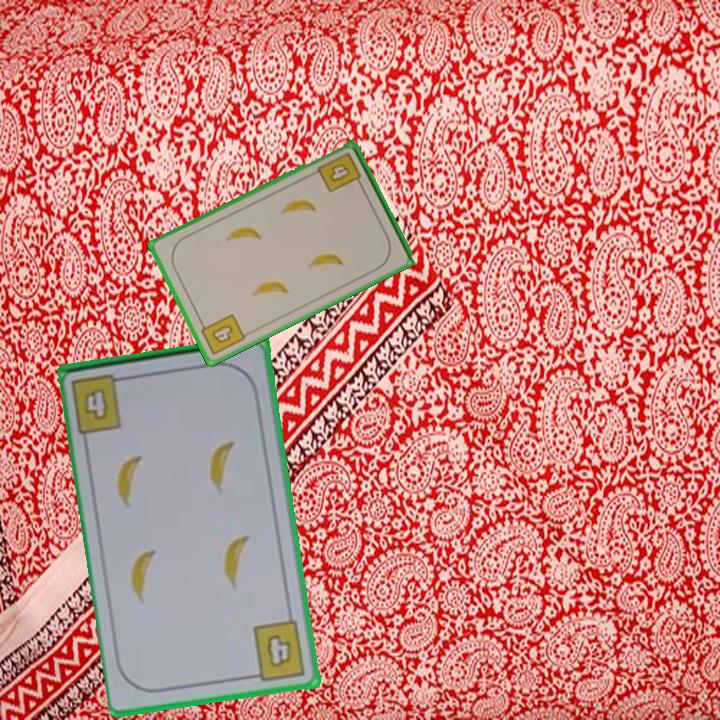4b: (68, 370, 133, 436), (246, 616, 309, 684), (196, 310, 248, 358), (314, 149, 365, 196)
